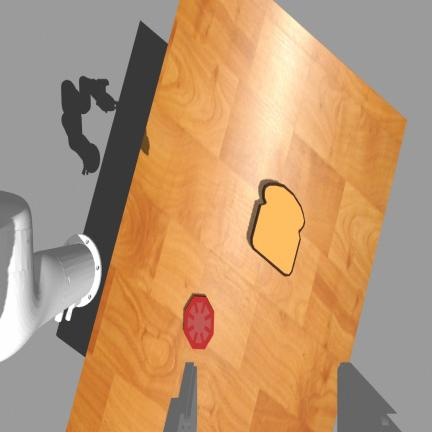sliced_bread: (251, 183, 304, 275)
sliced_tomato: (185, 296, 214, 348)
